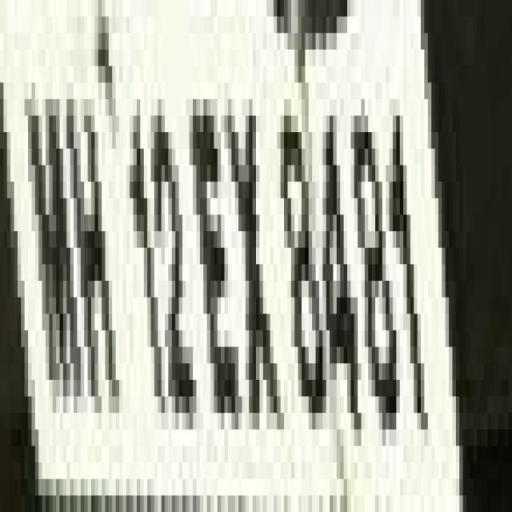number plate: (10, 16, 477, 512)
